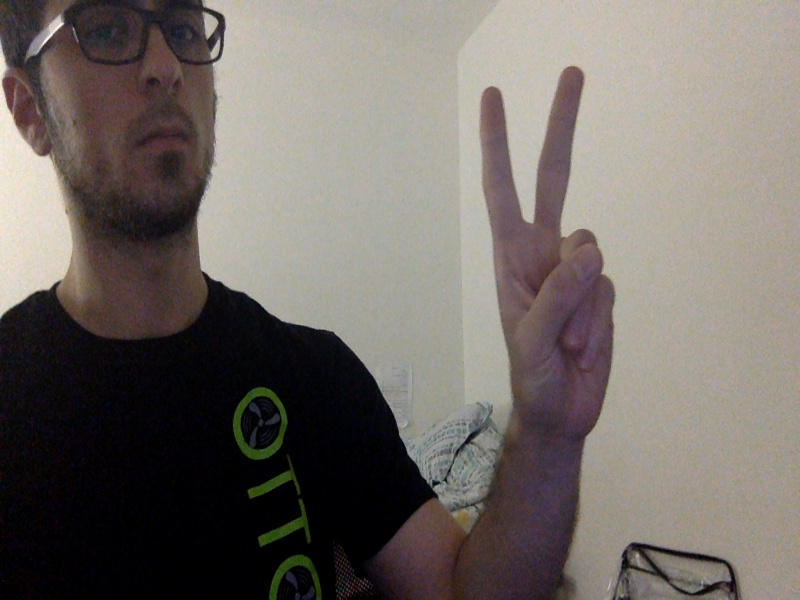2-hand: (477, 68, 618, 449)
